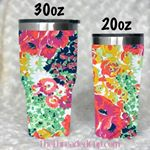cups: (15, 17, 81, 140), (89, 31, 144, 142)
